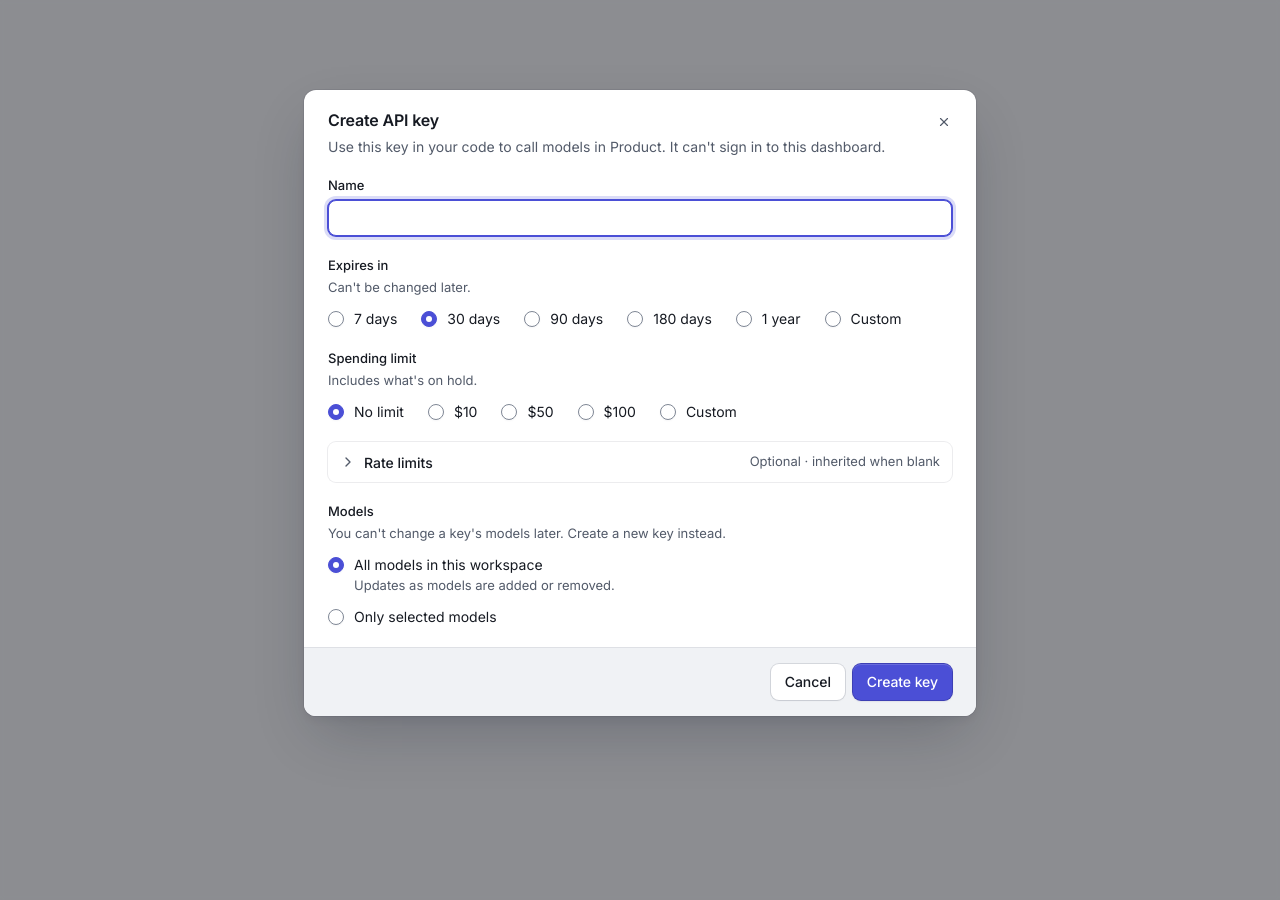
Test: rejects a retained Copy binding after owner unmount
The width and height of the screenshot is (1280, 900).
Type "CLI" into the field labelled "Name" at (640, 218), box [328,200,952,236]
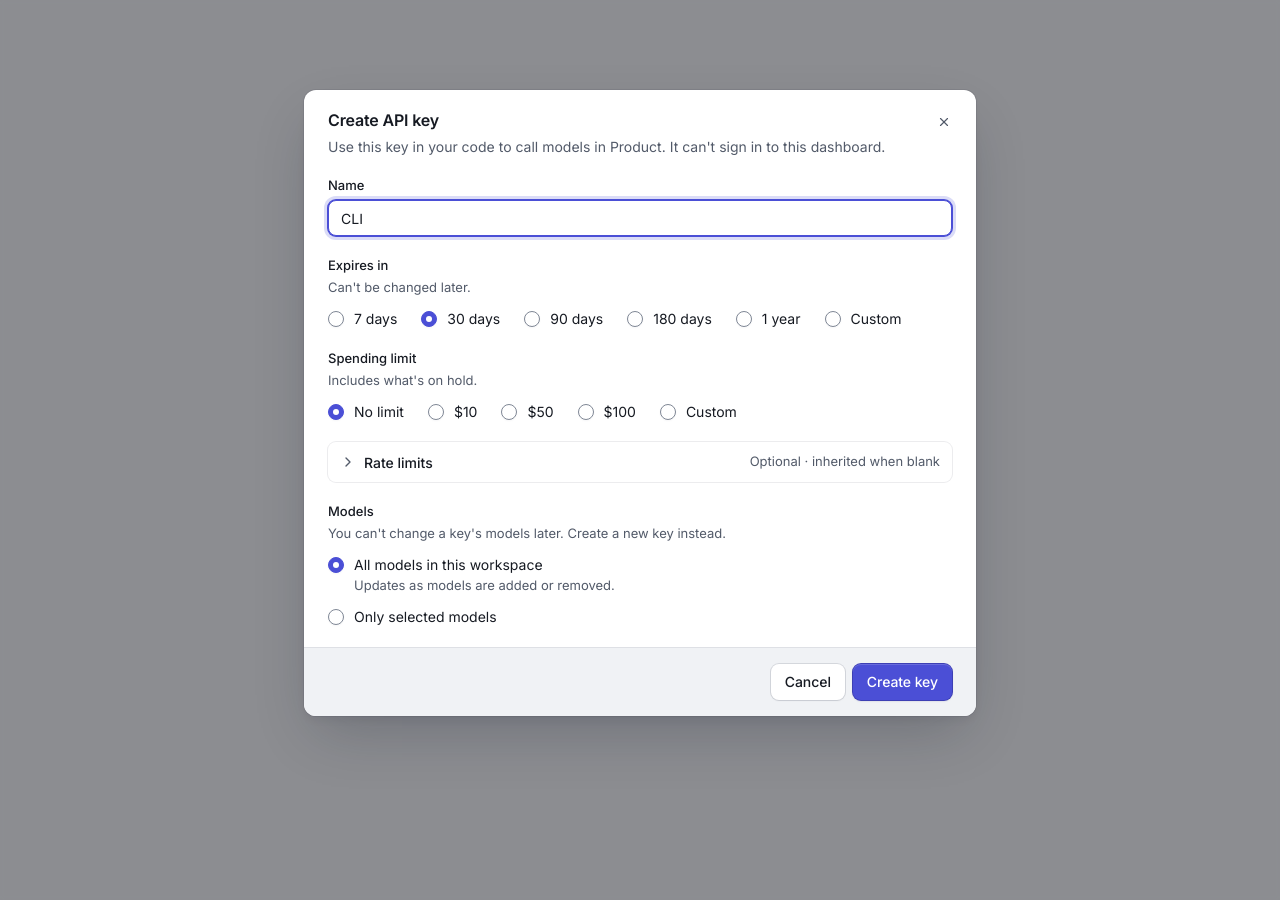
Click the button "Create key" at (902, 682), box [853,664,952,700]
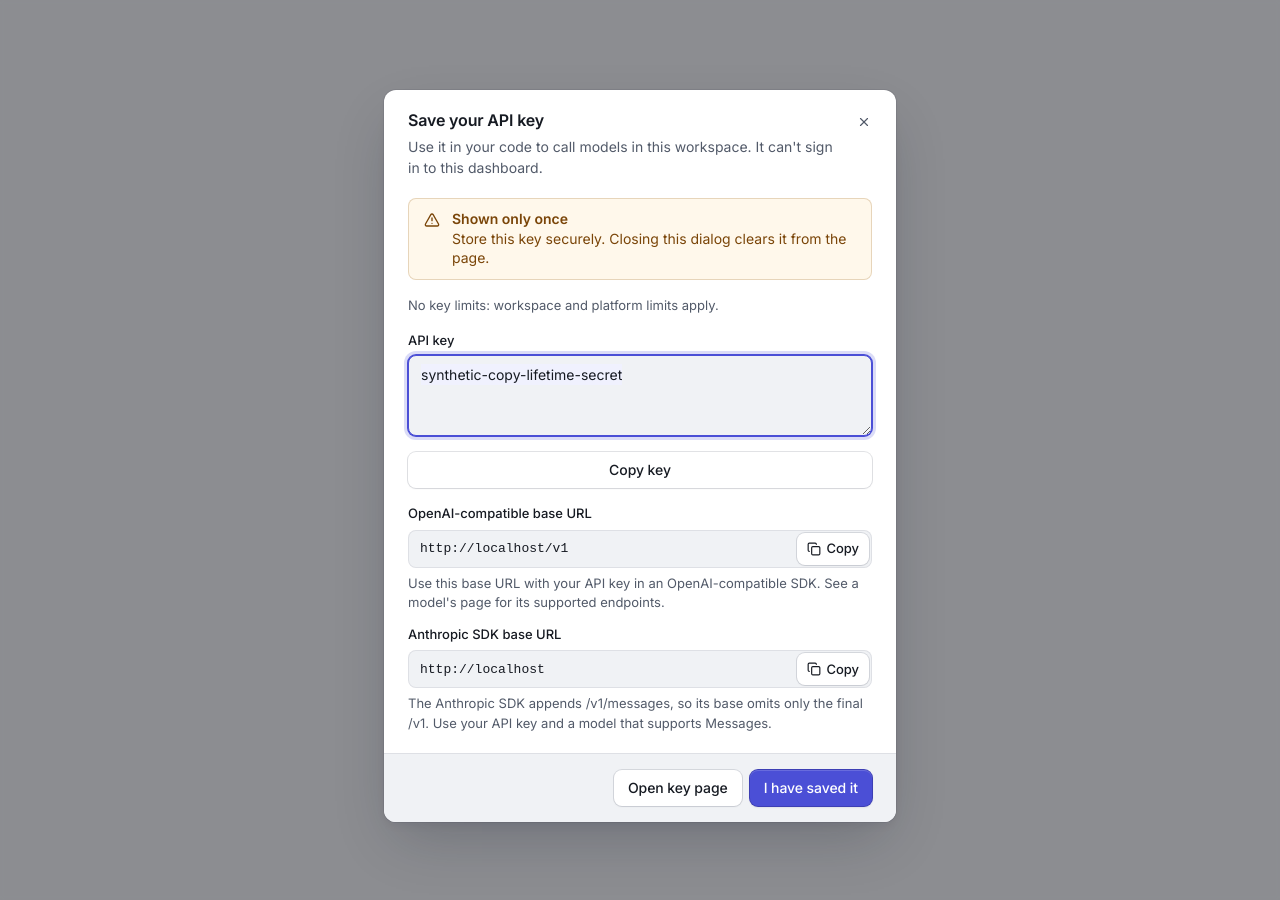
Result: the text box labelled "API key" holds "synthetic-copy-lifetime-secret" at [408,355,872,436]
